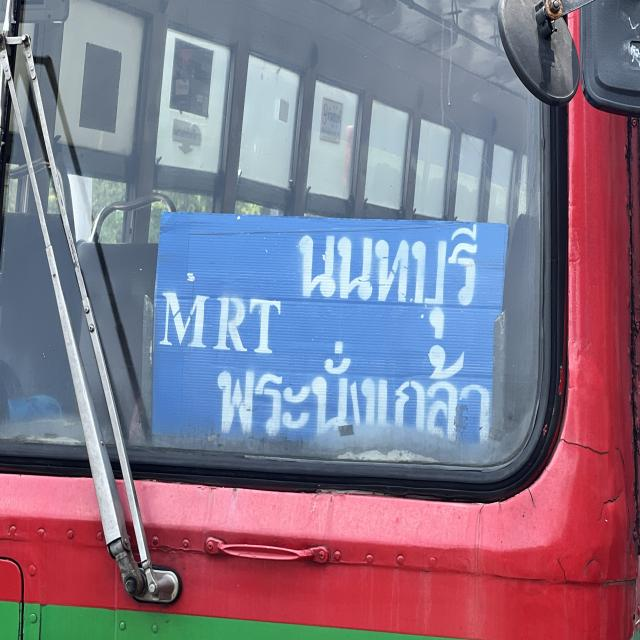BMTA-bus: (0, 0, 640, 640)
Destination-Sign-Normal: (155, 211, 509, 452)
